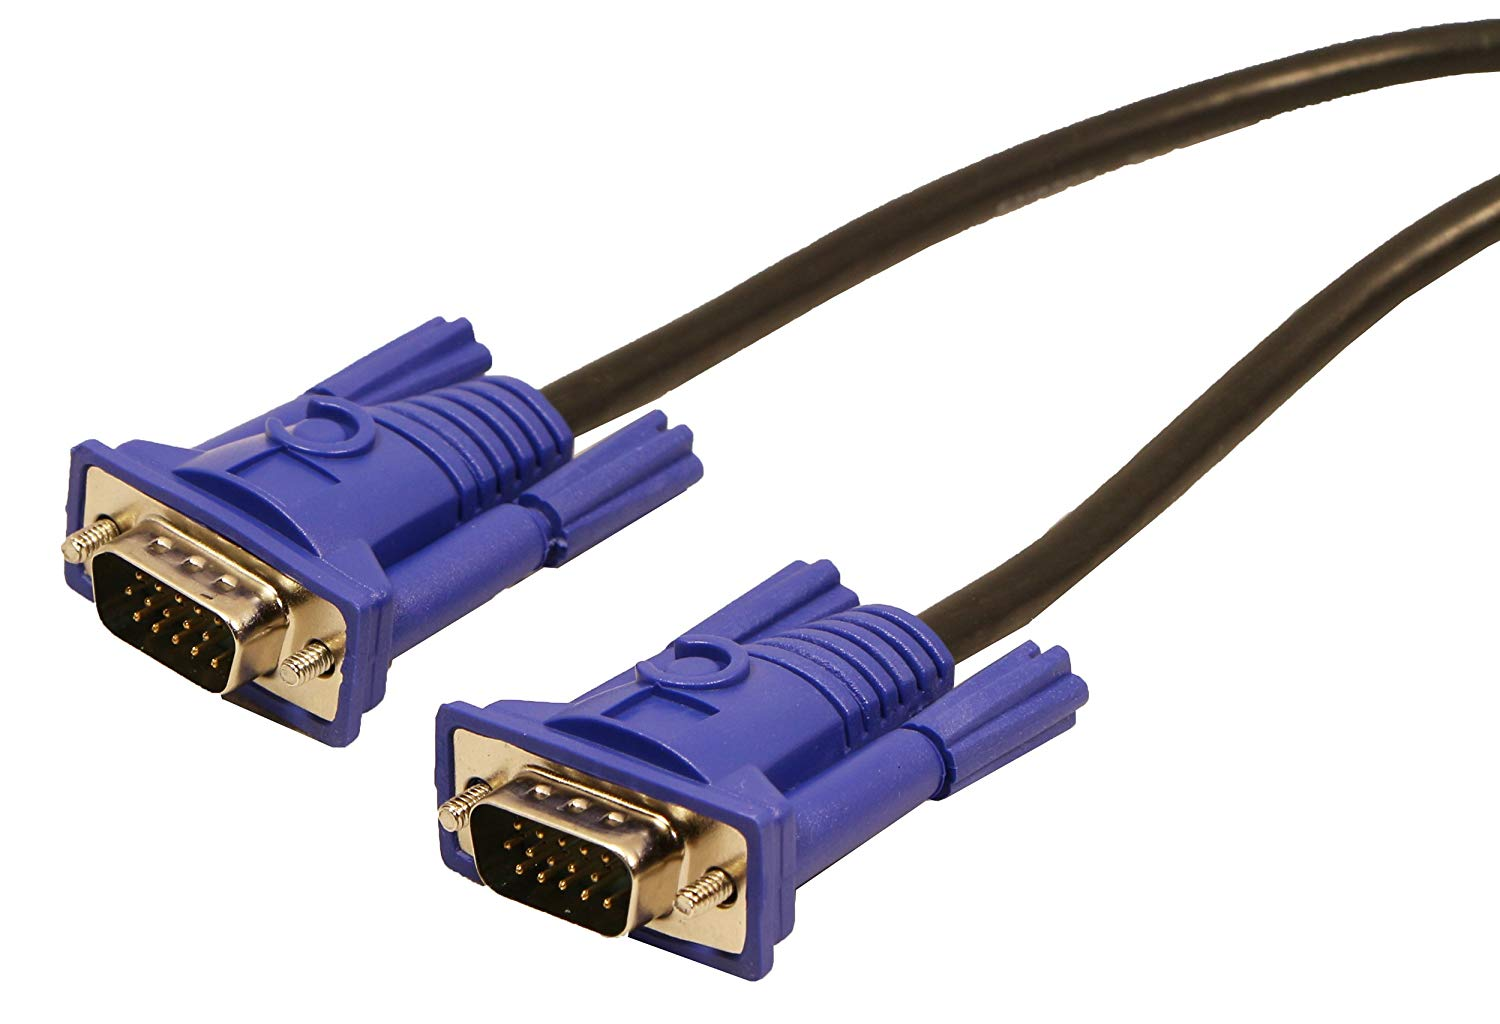Nonrec_Tangler: (5, 35, 1454, 985)
